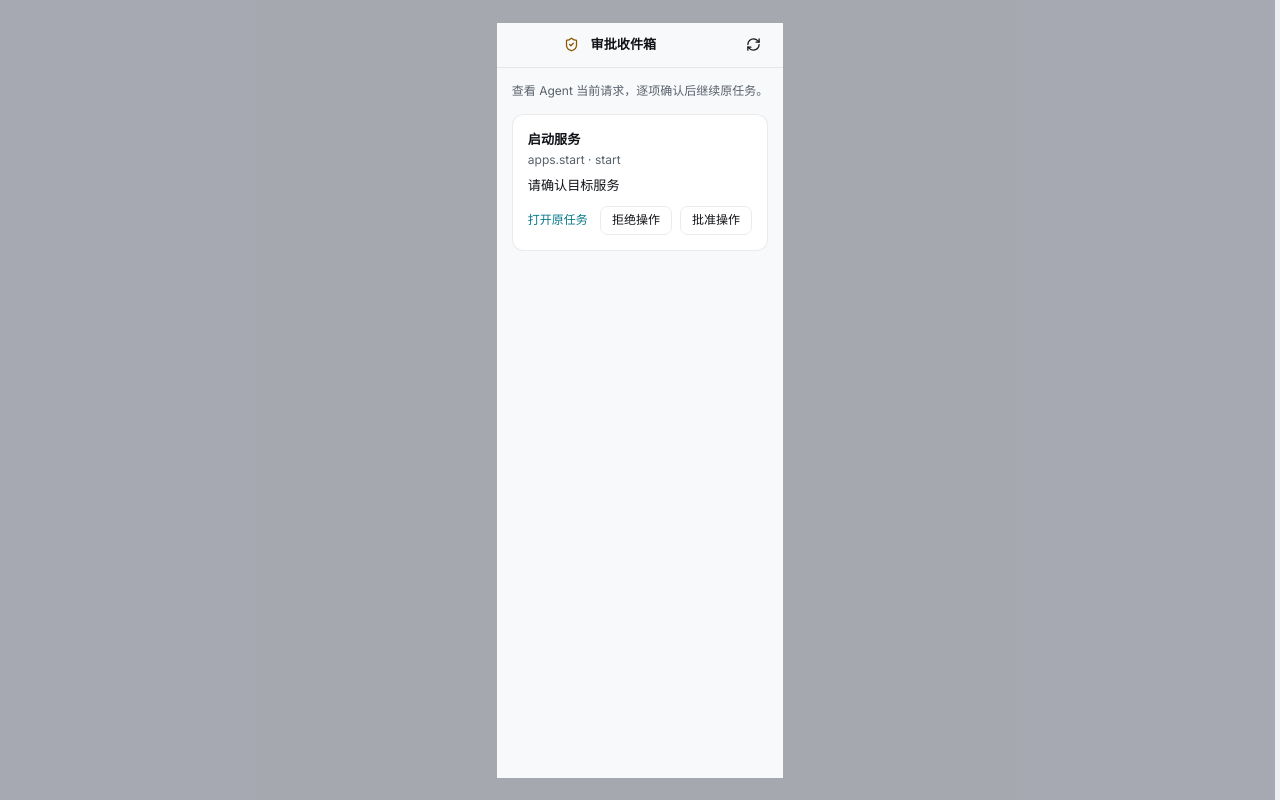
Test: Decision inbox › contains keyboard focus in review and lets Escape cancel without executing
The image size is (1280, 800).
Click the button "批准操作".
click(716, 220)  # box [680,206,752,235]
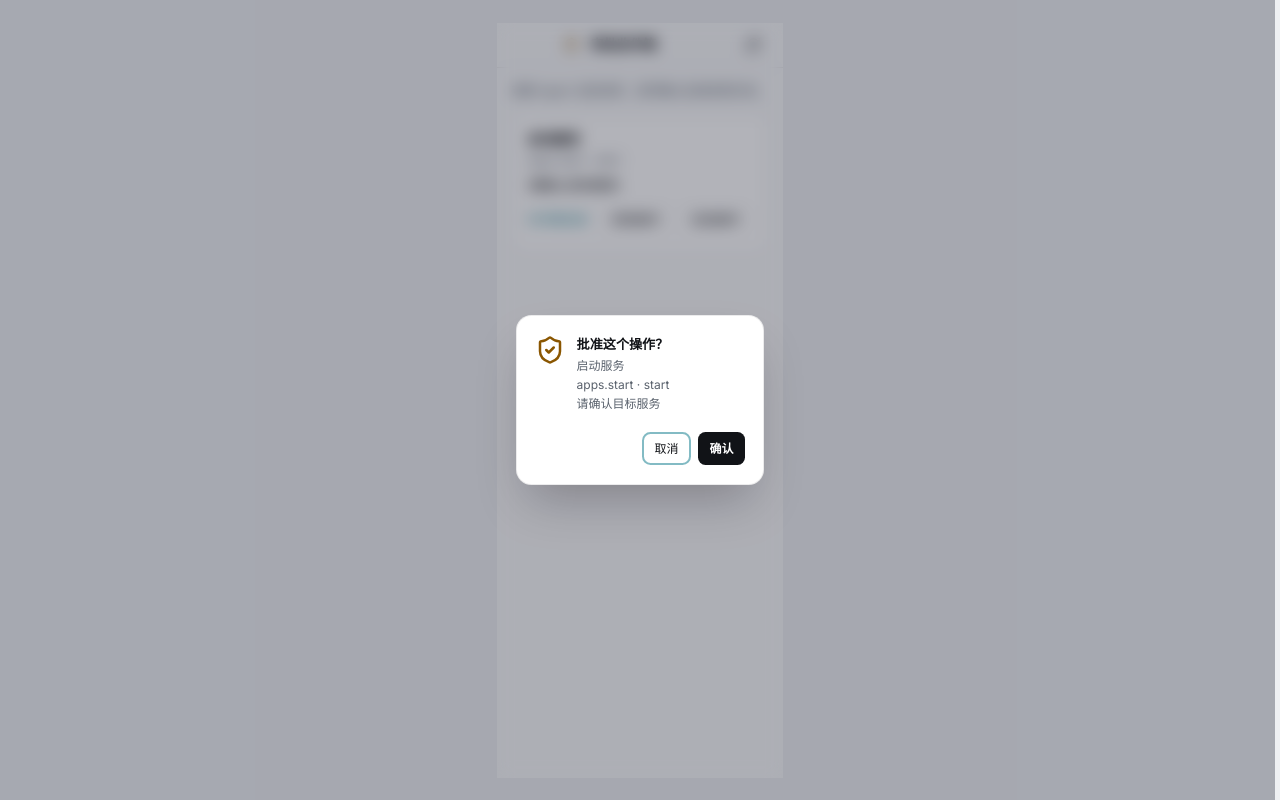
Press Shift+Tab
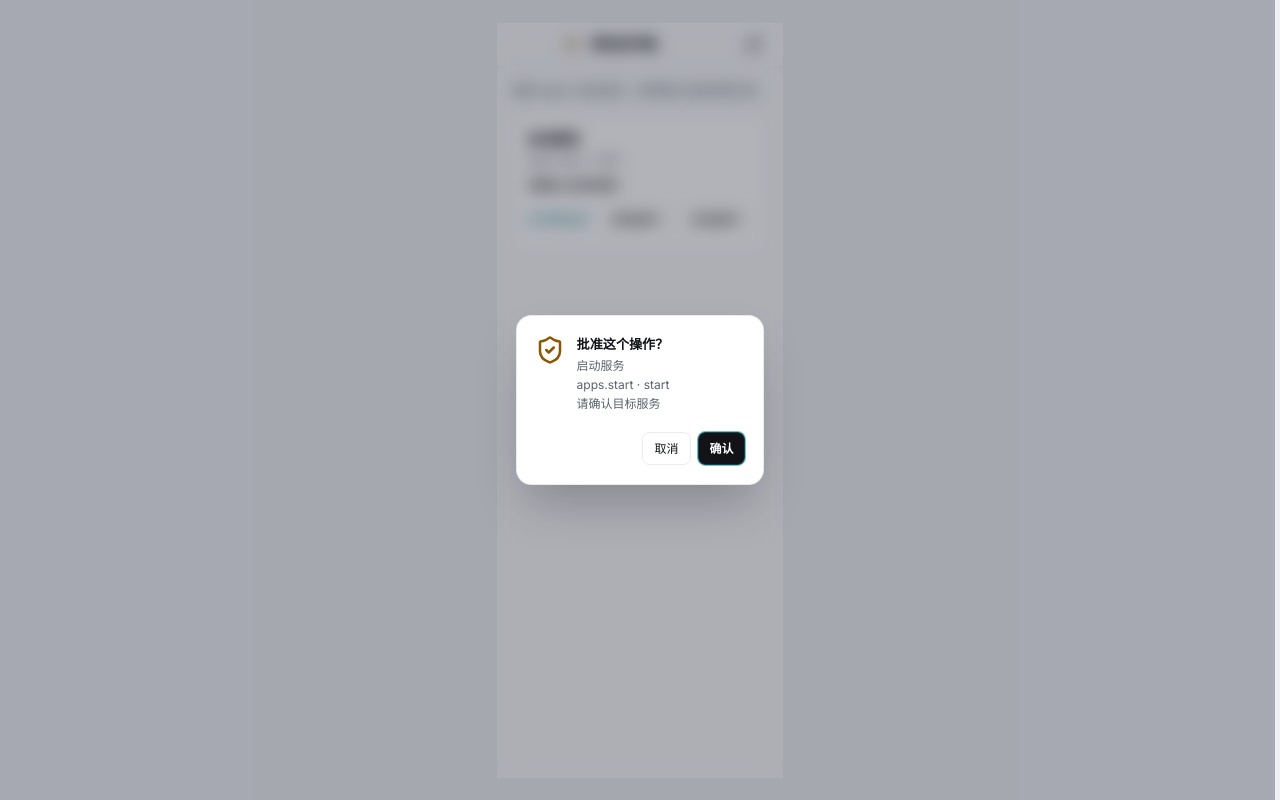
Press Tab
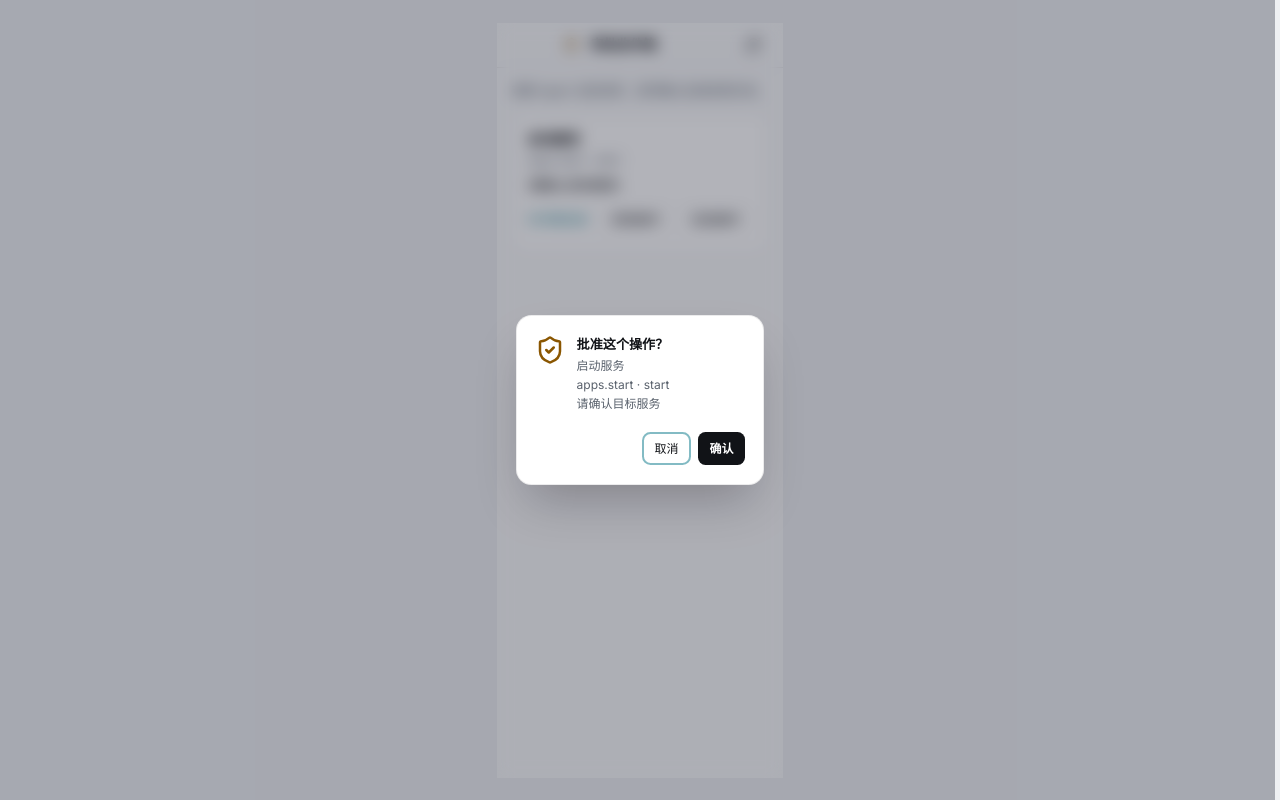
Press Escape
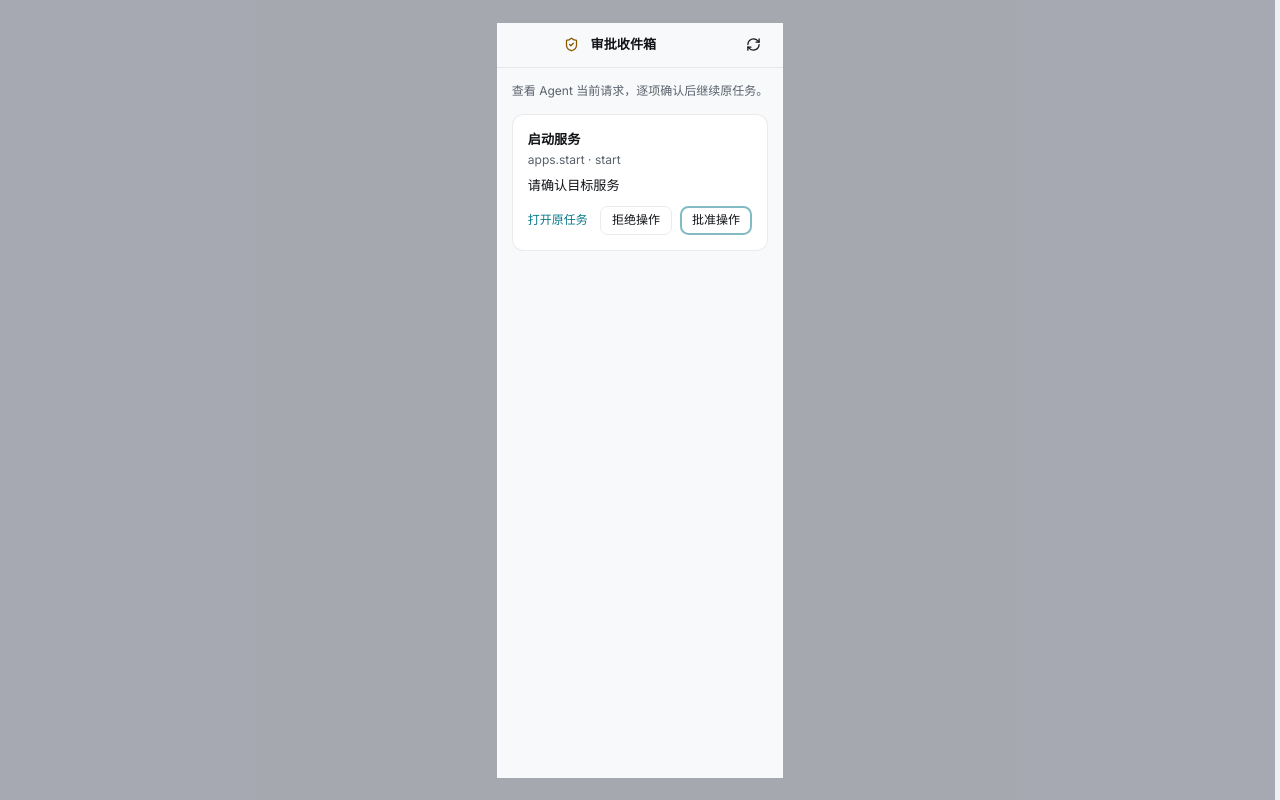
Expected: the dialog "批准这个操作？ 启动服务 apps.start · start 请确认目标服务 取消 确认" is gone
